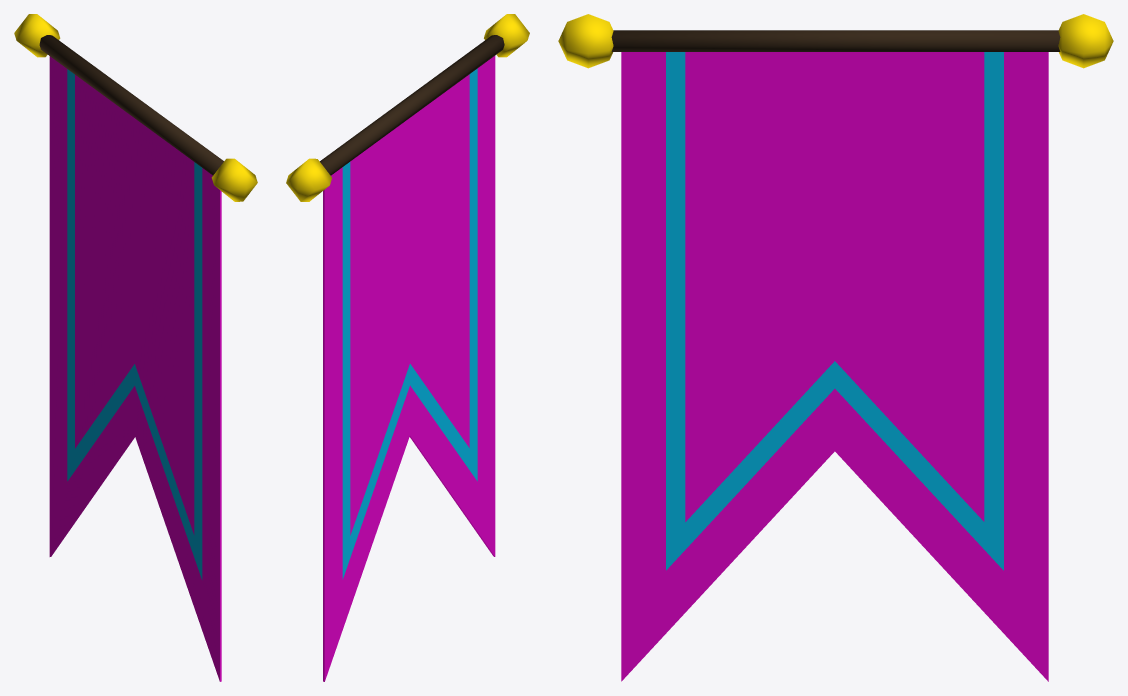
File: Flag_2.fbx
3 views of the same model, side by side, from view 1: azimuth 30°, elevation 25°; view 2: azimuth 150°, elevation 25°; view 3: azimuth 270°, elevation 25° (orthographic). The views are drawn at different scales.
Visible parts, largest first — view 1: Flag_2; view 2: Flag_2; view 3: Flag_2.
Boxes of the visible parts, bbox=[...] form: Flag_2: bbox=[14, 14, 257, 681]; Flag_2: bbox=[286, 14, 529, 681]; Flag_2: bbox=[558, 14, 1113, 681].
Size of the model in its own units: 0.1188 by 1.46 by 1.1.
